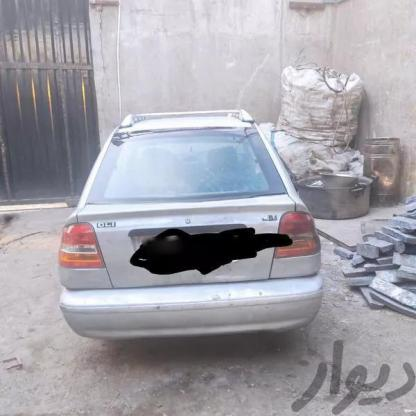Car: (50, 98, 339, 358)
